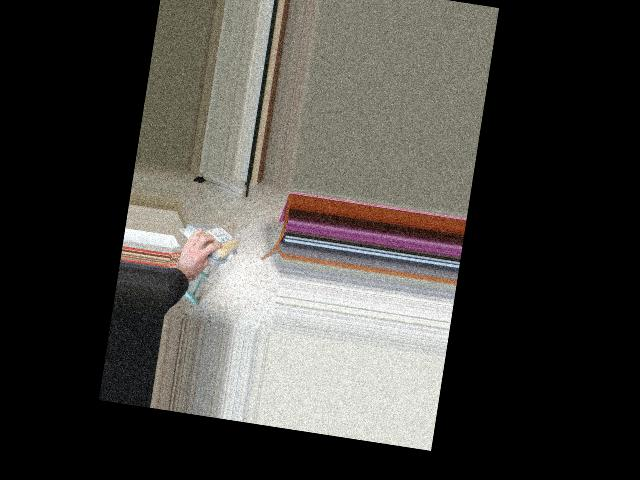cheese: (180, 221, 246, 258)
